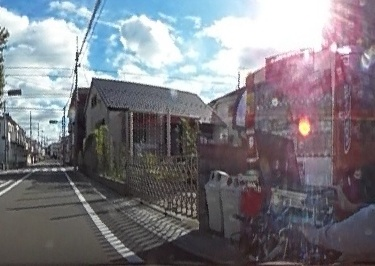person: (305, 62, 375, 258)
